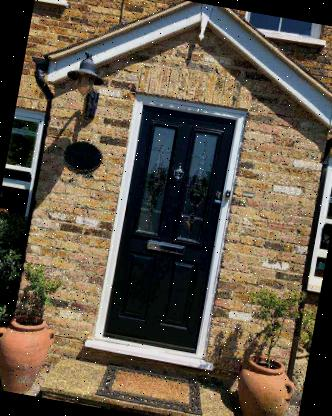door: (87, 87, 251, 372)
